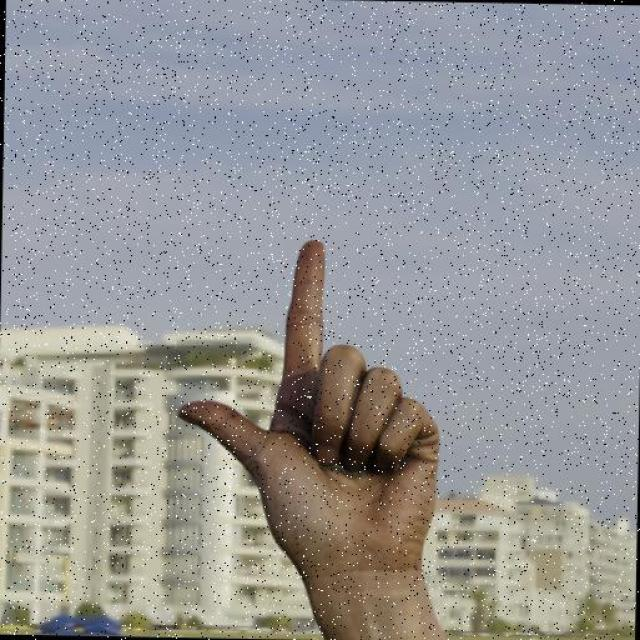L: (170, 236, 444, 584)
